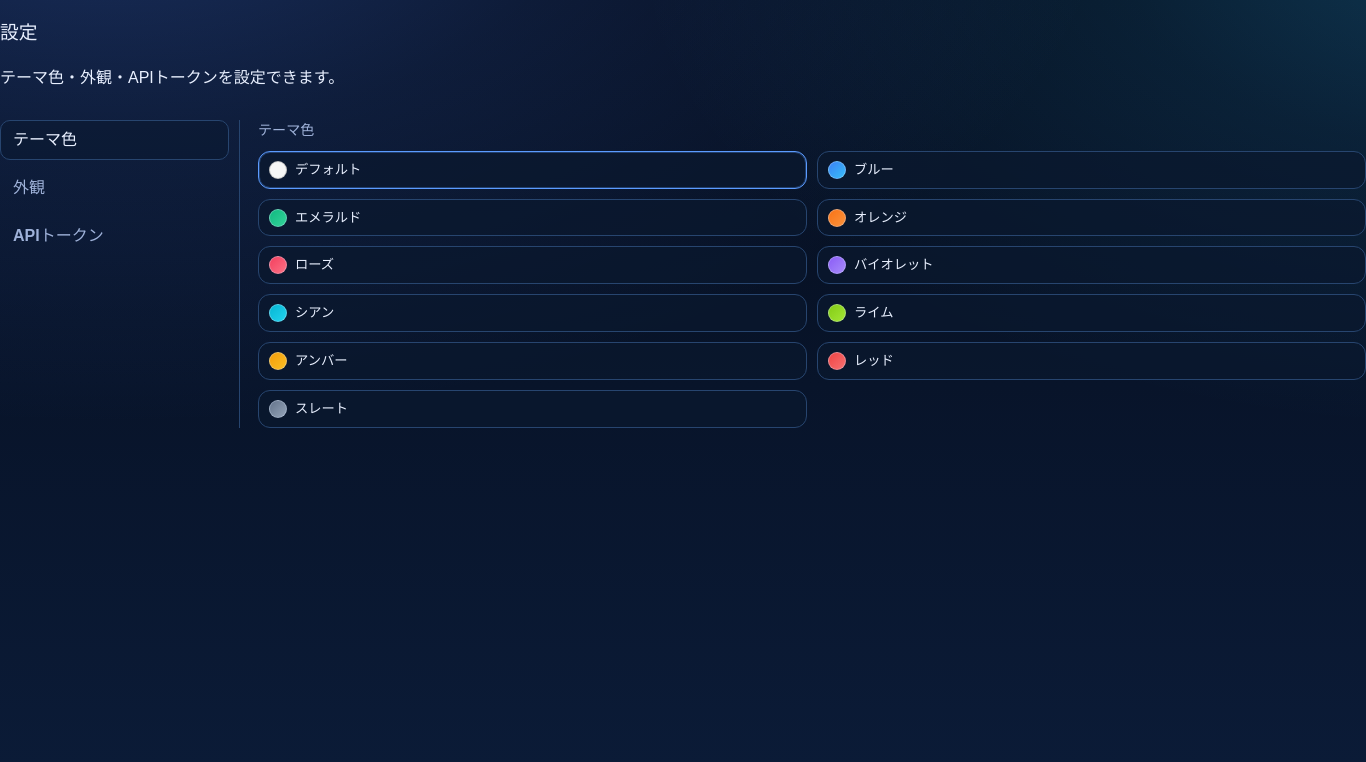
Test: SettingsPanel › does not auto-save created token when active token already exists
Step 1. Click the tab "APIトークン" → (114, 236), box [0,216,229,257]
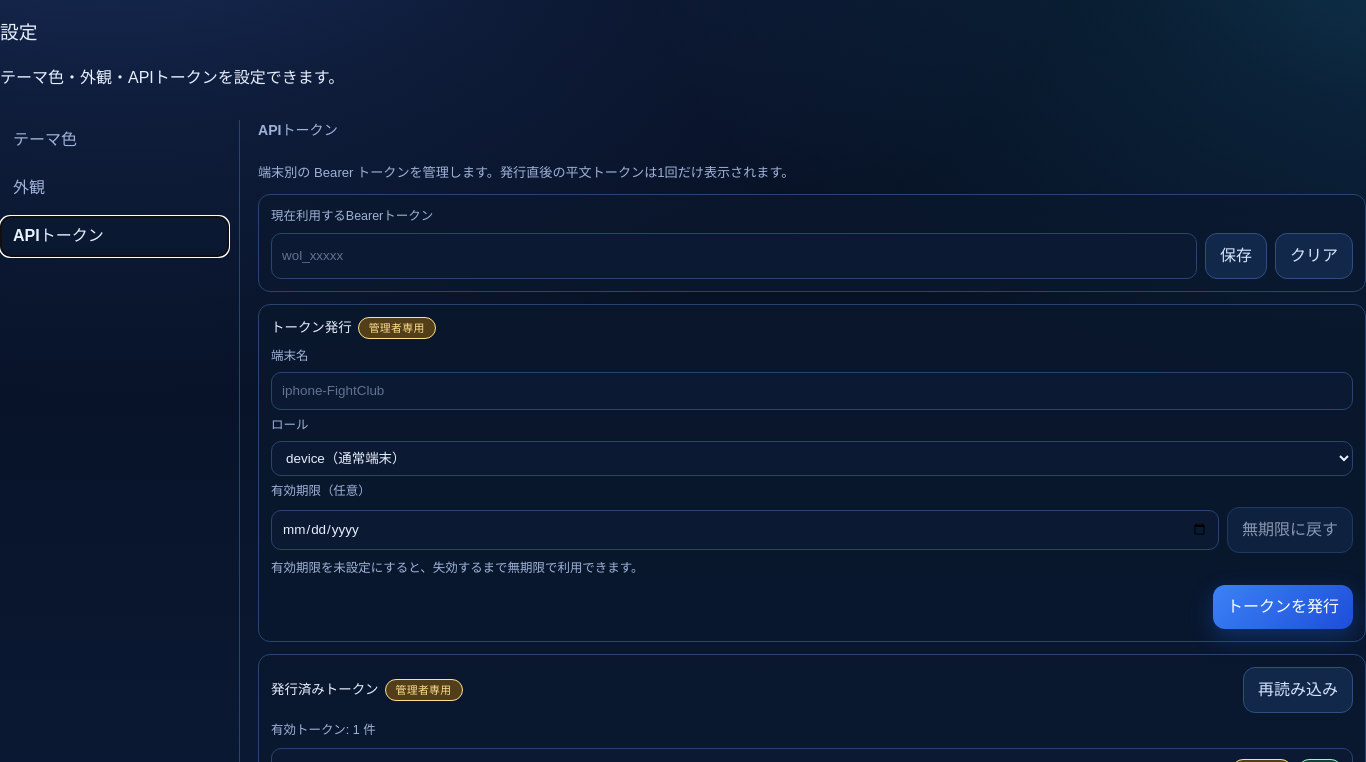
Step 2. Type "iphone-action-button" into the field labelled "端末名" → (812, 391), box [271,372,1353,410]
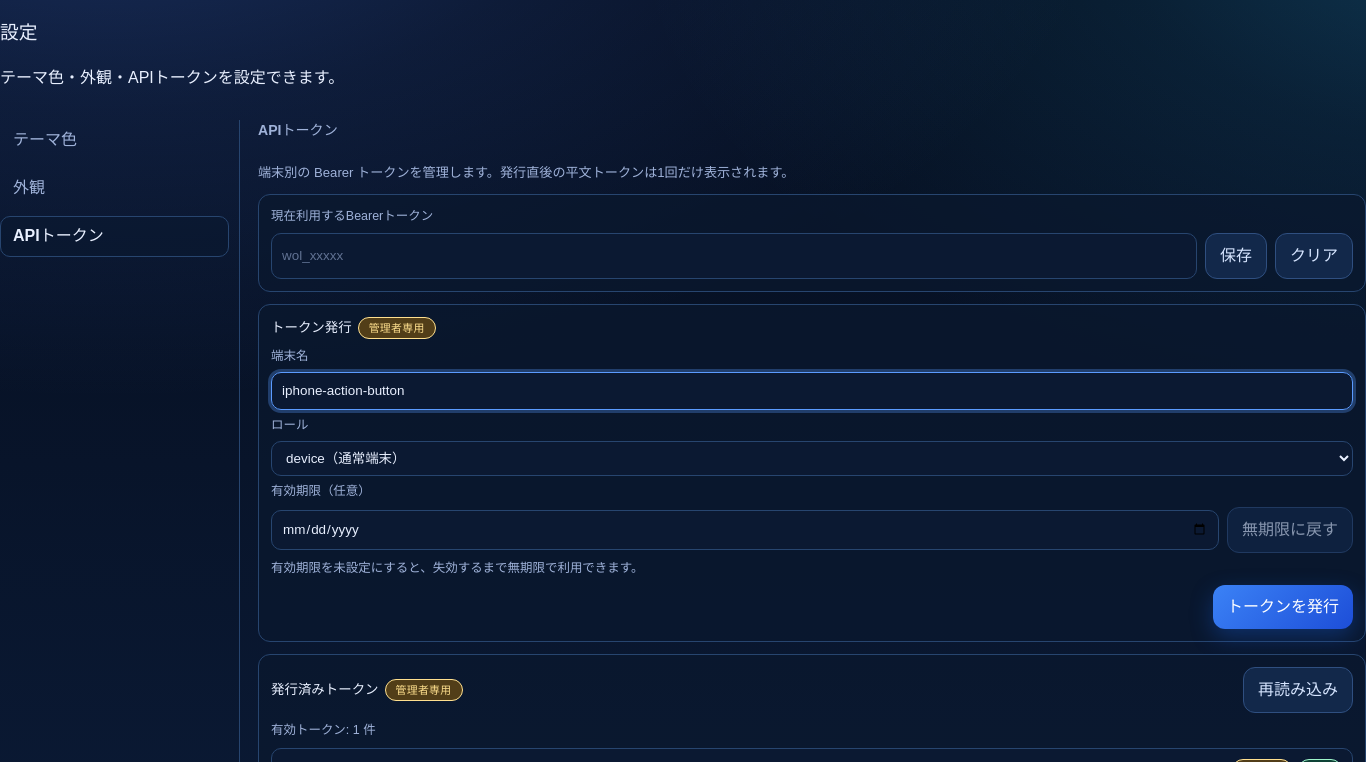
Step 3. Click the button "トークンを発行" → (1283, 607), box [1213,585,1353,629]
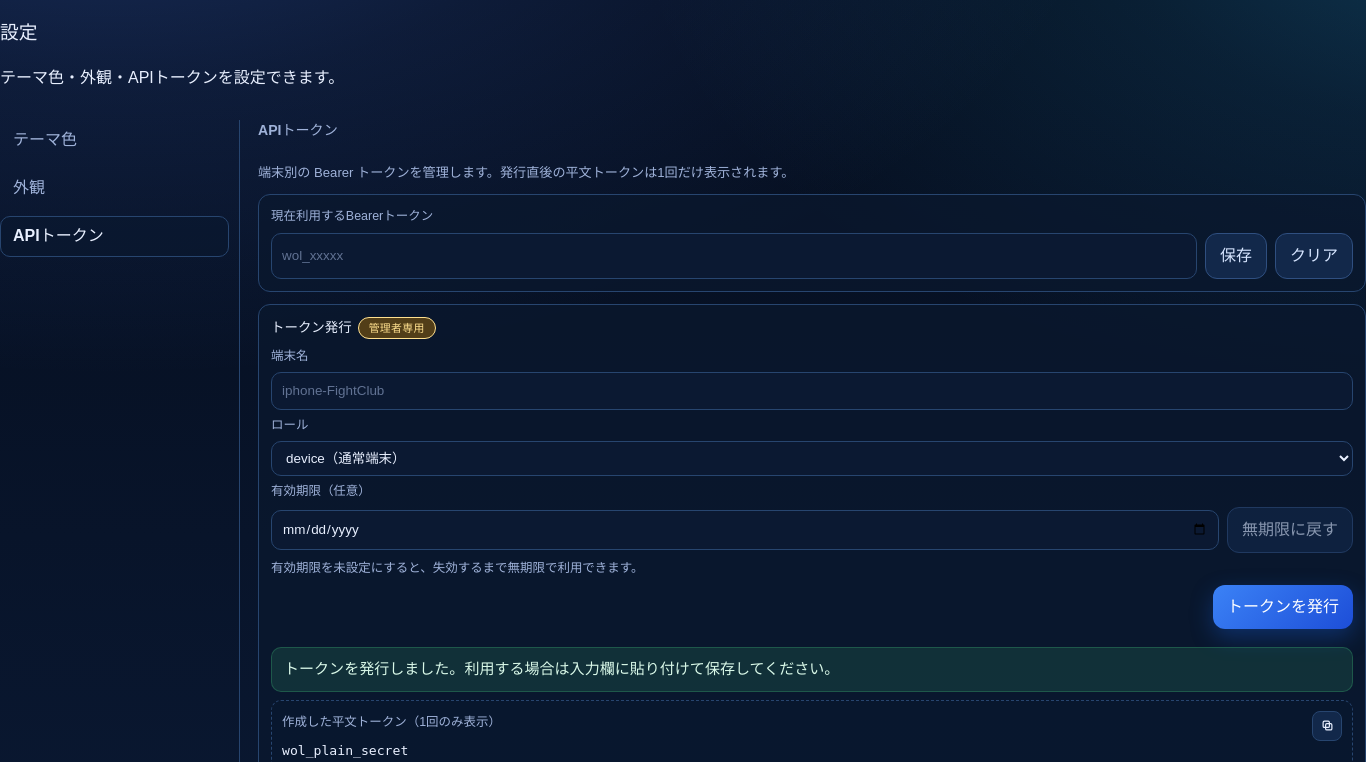
Check: the text "トークンを発行しました。利用する場合は入力欄に貼り付けて保存してください。" is shown, box [271,647,1353,692]
Check: the text "wol_plain_secret" is shown, box [282,743,408,758]
